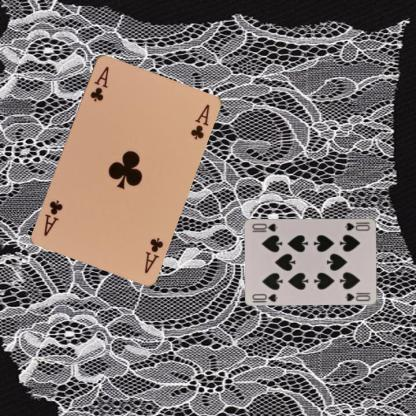10s: (250, 291, 279, 303), (343, 220, 371, 232)
Ac: (87, 63, 110, 103), (142, 234, 165, 274)
